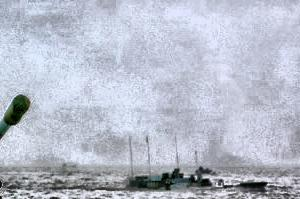tanks: (1, 96, 30, 142), (1, 182, 3, 199)
